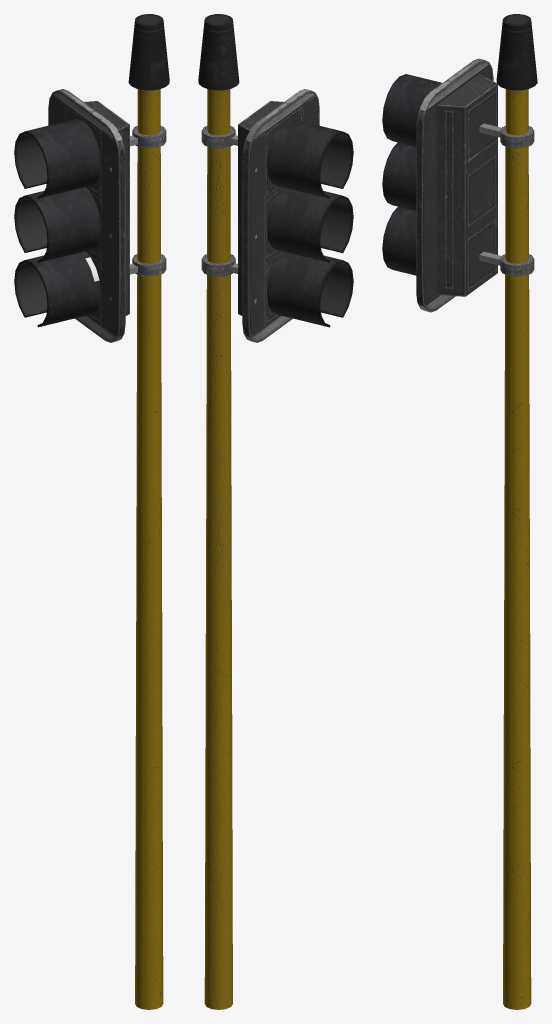
Rendered from PW_Traffic_light_01.fbx.
3 renders of one model, left to right at view 1: azimuth 30°, elevation 25°; view 2: azimuth 150°, elevation 25°; view 3: azimuth 330°, elevation 25°, orthographic.
Visible parts, largest first — view 1: PW_Traffic_light_01_LOD0; view 2: PW_Traffic_light_01_LOD0; view 3: PW_Traffic_light_01_LOD0.
Part boxes in pixels (x1=…): PW_Traffic_light_01_LOD0: x1=14, y1=14, x2=169, y2=1009; PW_Traffic_light_01_LOD0: x1=198, y1=14, x2=353, y2=1009; PW_Traffic_light_01_LOD0: x1=382, y1=14, x2=537, y2=1009.
Size of what is drawn, in the model's own units: 67.45 by 467 by 61.17.
